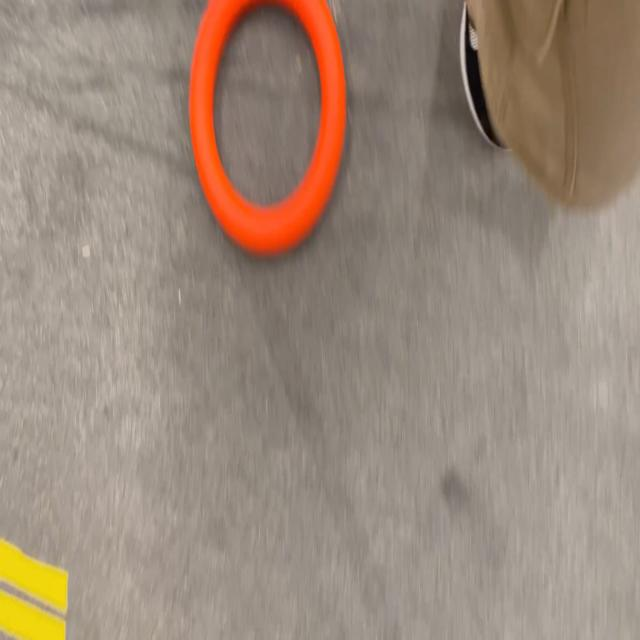note: (191, 1, 346, 256)
